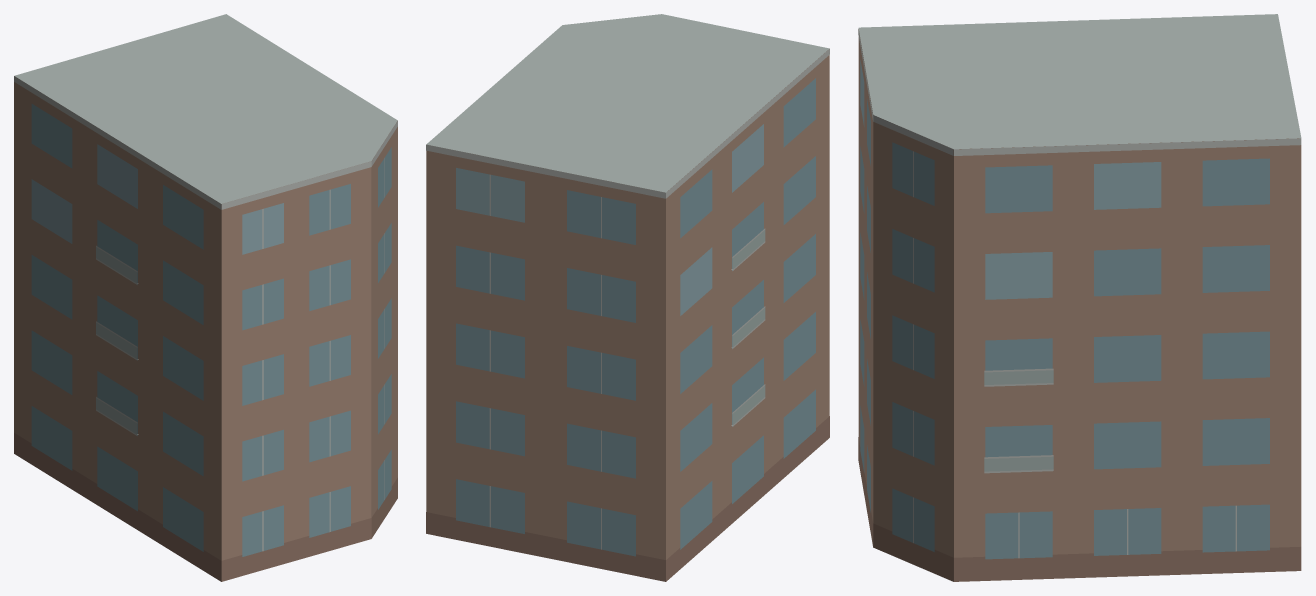
The model's file is survey-upis-32988492.glb.
The picture shows the model from 3 angles, left to right: view 1: azimuth 30°, elevation 25°; view 2: azimuth 150°, elevation 25°; view 3: azimuth 270°, elevation 25°; orthographic projection. The views are drawn at different scales.
Visible parts, largest first — view 1: survey-upis-32988492.tmp; view 2: survey-upis-32988492.tmp; view 3: survey-upis-32988492.tmp.
Part boxes in pixels (bbox=[...]): survey-upis-32988492.tmp: bbox=[14, 14, 397, 581]; survey-upis-32988492.tmp: bbox=[426, 14, 829, 581]; survey-upis-32988492.tmp: bbox=[858, 14, 1301, 581].
Size of the model in its own units: 10.41 by 15.5 by 14.4.
